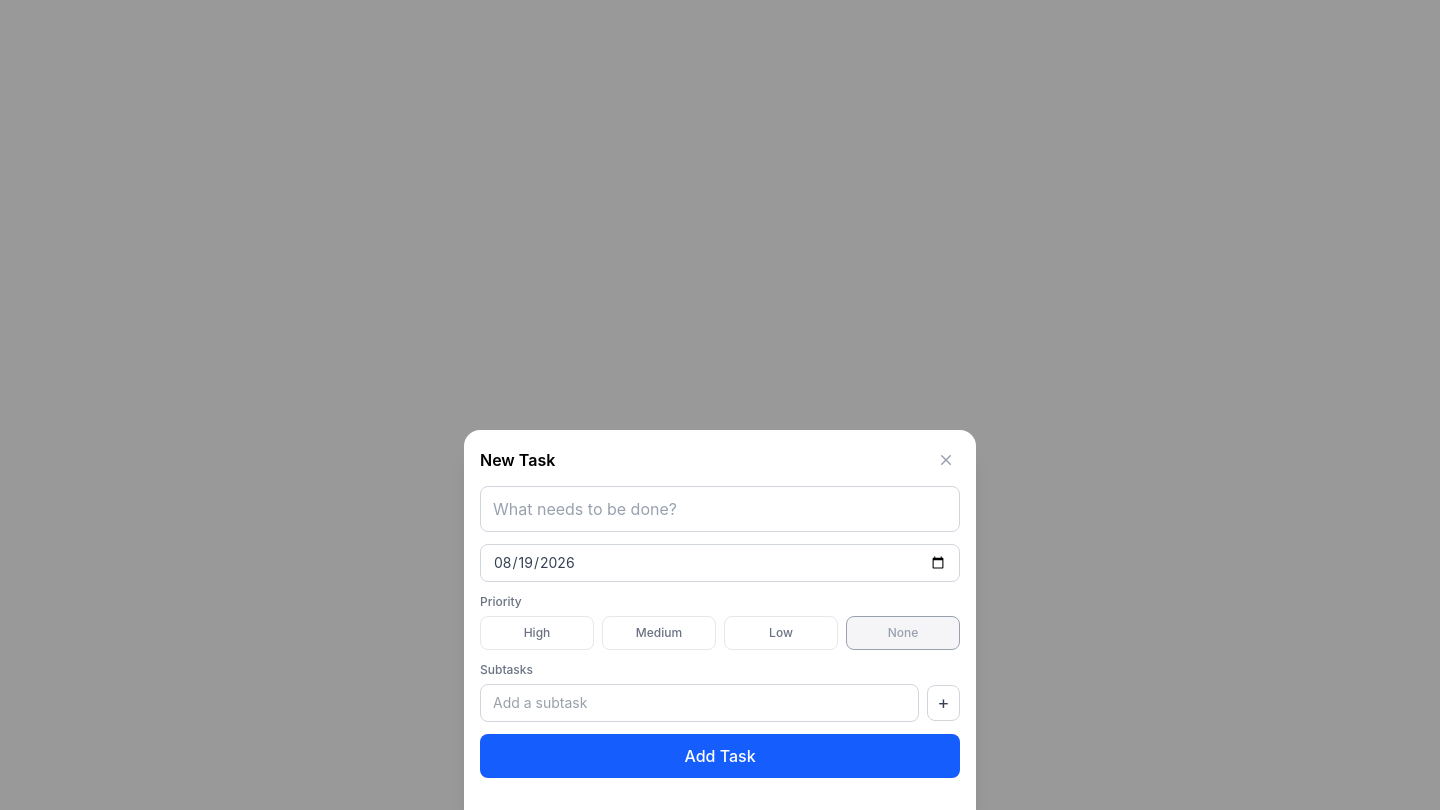
it: QuickAdd › shows validation error for empty title
Click the button "Add Task".
click(720, 756)  # box [480,734,960,778]
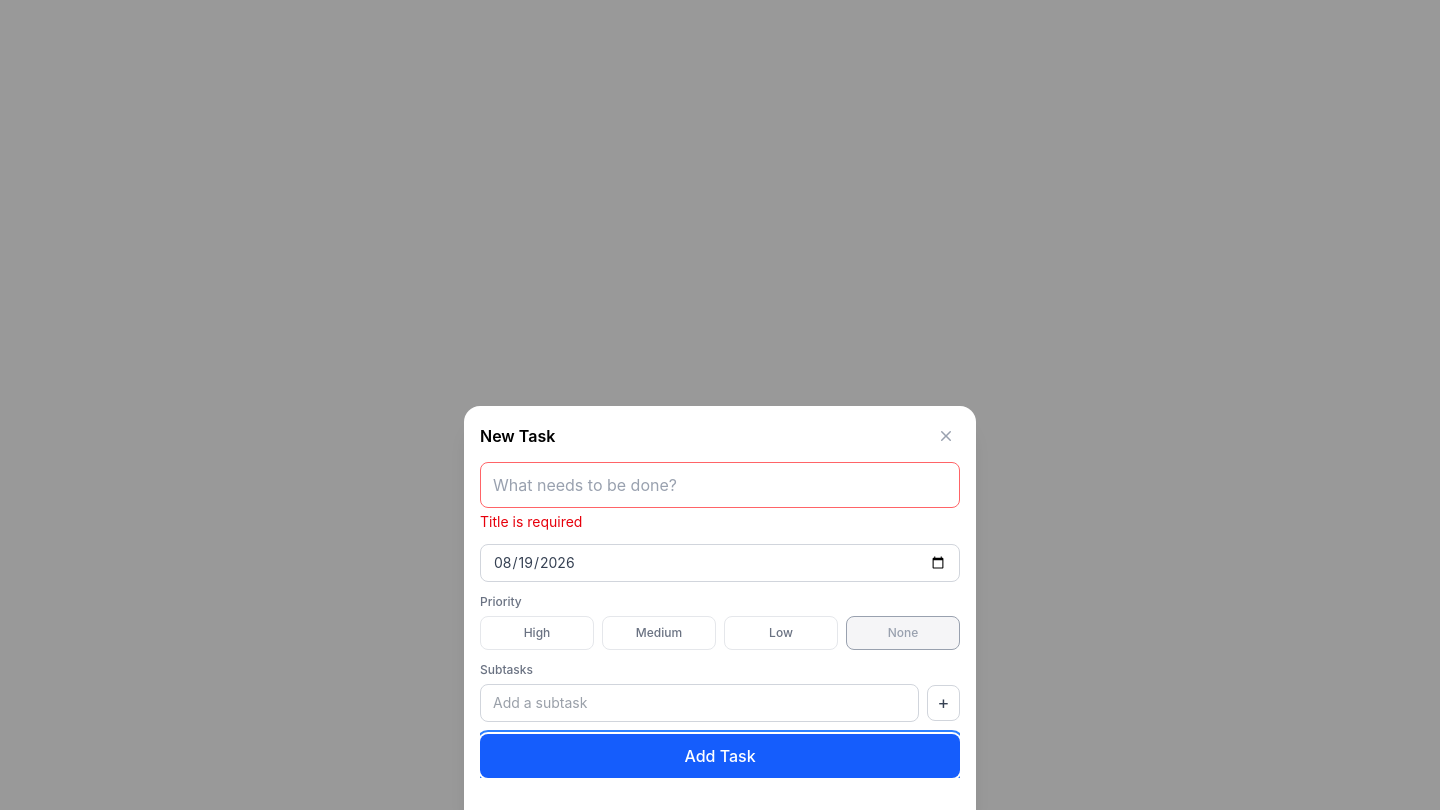
Expected: the text "Title is required" is shown, [480,513,582,530]
